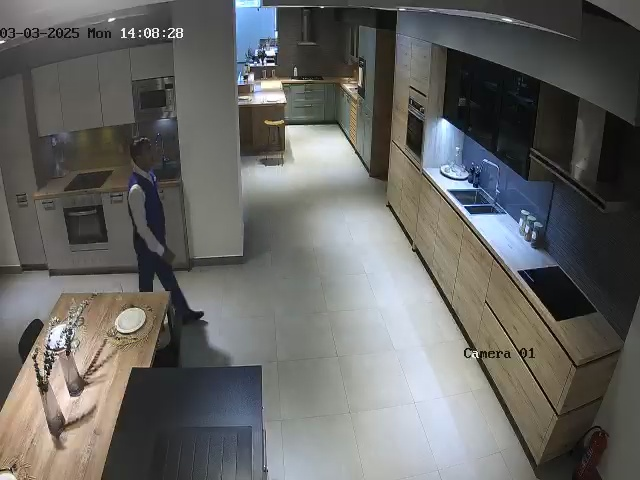employee: (126, 137, 204, 324)
